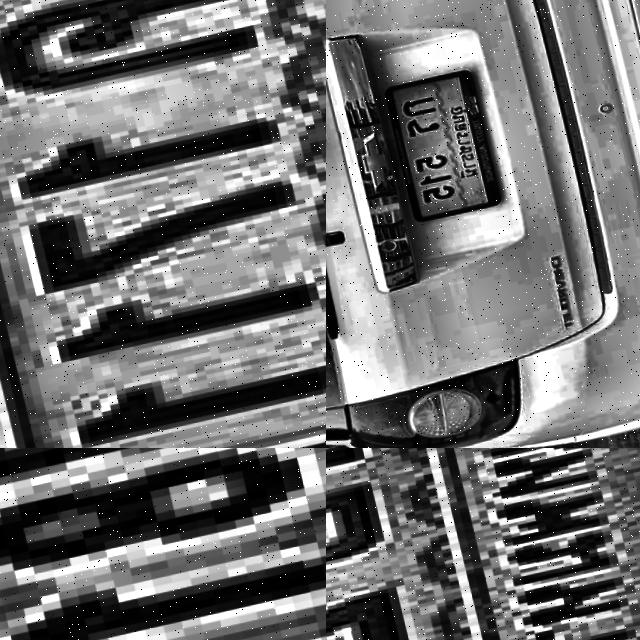license-plate: (0, 0, 326, 448), (0, 448, 326, 640), (326, 448, 640, 640), (377, 71, 502, 231)
